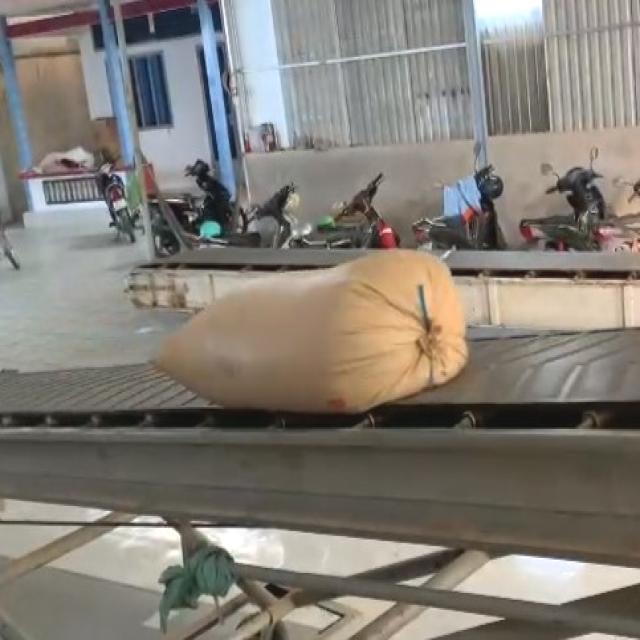gunny_bag: (159, 250, 469, 413)
